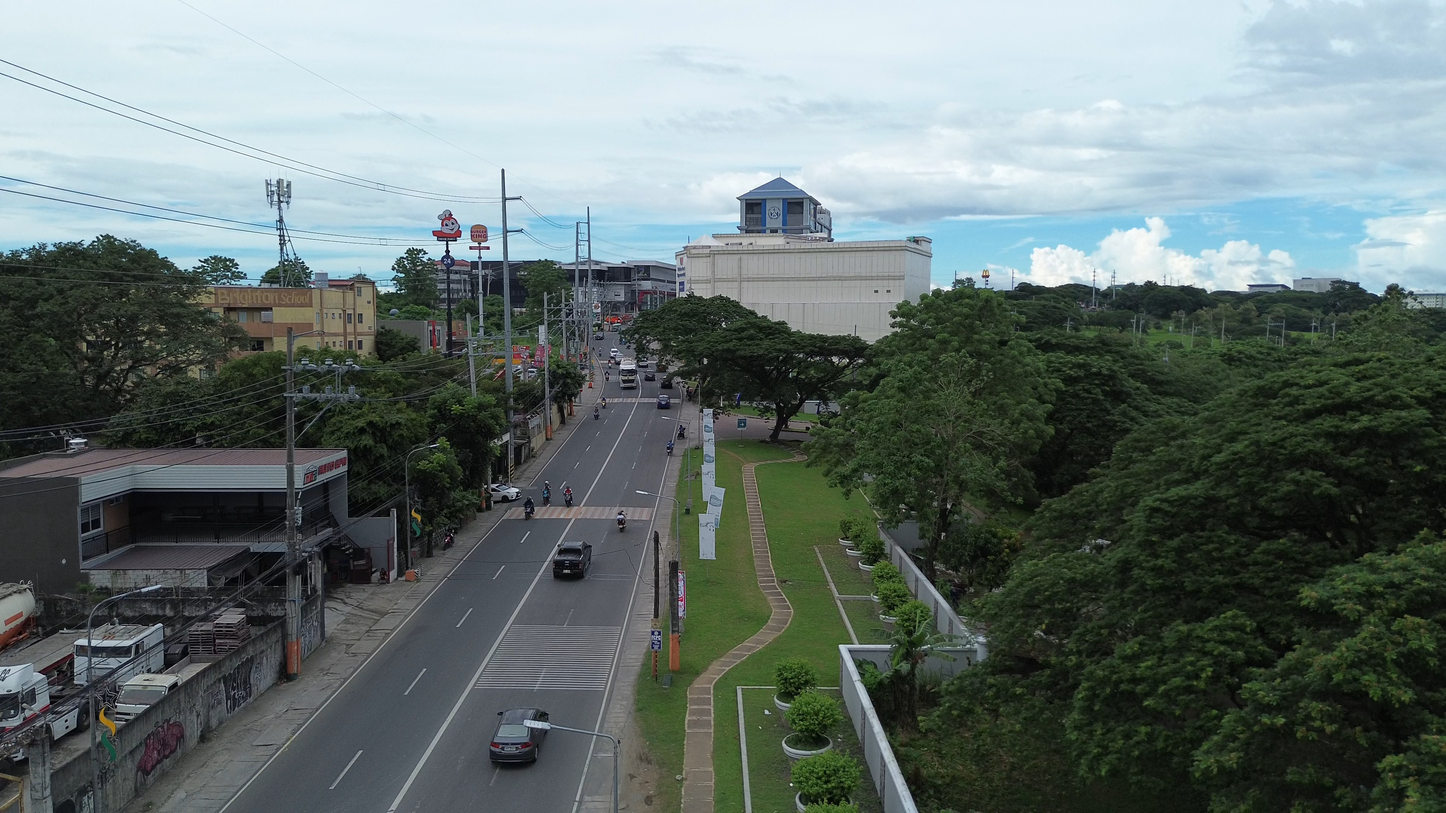car: (489, 708, 548, 762), (488, 483, 521, 501), (656, 395, 671, 409), (659, 375, 673, 388), (643, 370, 656, 381), (593, 332, 604, 340)
motorcycle: (442, 530, 455, 550), (523, 502, 534, 519), (616, 514, 626, 531), (564, 490, 572, 507), (667, 440, 674, 455)
truck: (113, 657, 209, 723), (0, 664, 68, 733)
vehicle: (74, 624, 163, 684), (0, 664, 62, 733), (111, 673, 181, 723), (0, 583, 35, 648), (552, 542, 592, 578), (619, 358, 638, 389), (523, 498, 535, 519), (616, 511, 626, 531), (659, 375, 673, 388), (610, 347, 621, 360), (637, 356, 648, 368)
